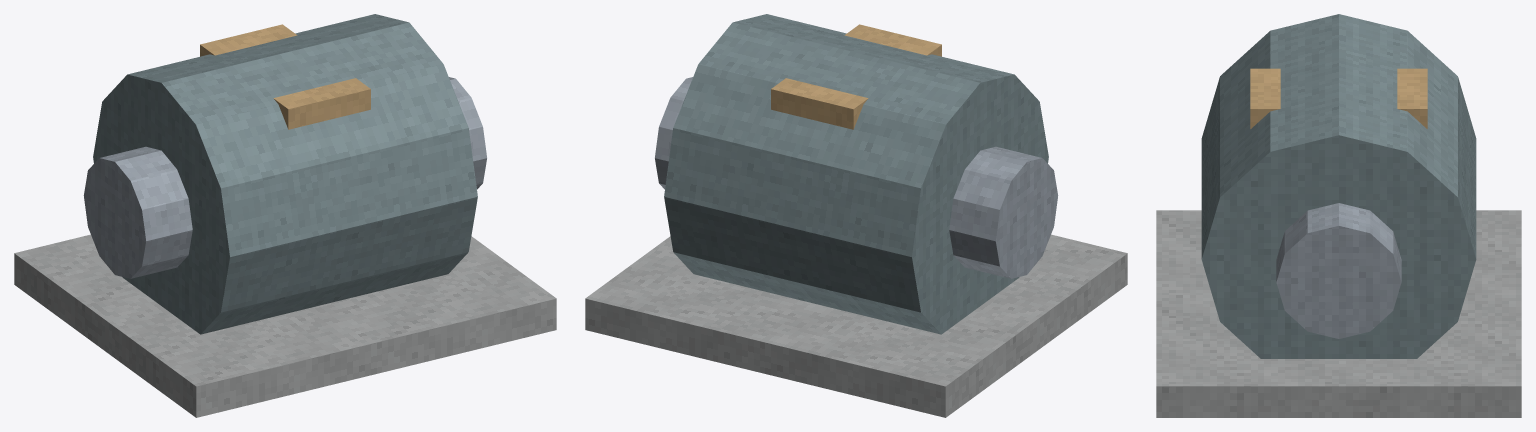
File: level_blockout_hydro_turbine.glb
The picture shows the model from 3 angles, left to right: view 1: azimuth 30°, elevation 25°; view 2: azimuth 150°, elevation 25°; view 3: azimuth 270°, elevation 25°; orthographic projection.
Visible parts, largest first — view 1: level_blockout_hydro_turbine; view 2: level_blockout_hydro_turbine; view 3: level_blockout_hydro_turbine.
Boxes of the visible parts, <box> form: level_blockout_hydro_turbine: <box>14,14,556,417</box>; level_blockout_hydro_turbine: <box>585,14,1127,417</box>; level_blockout_hydro_turbine: <box>1156,14,1521,417</box>.
Size of the model in its own units: 2.4 by 1.62 by 2.1.
Materials: 4 (4 with a texture image).
